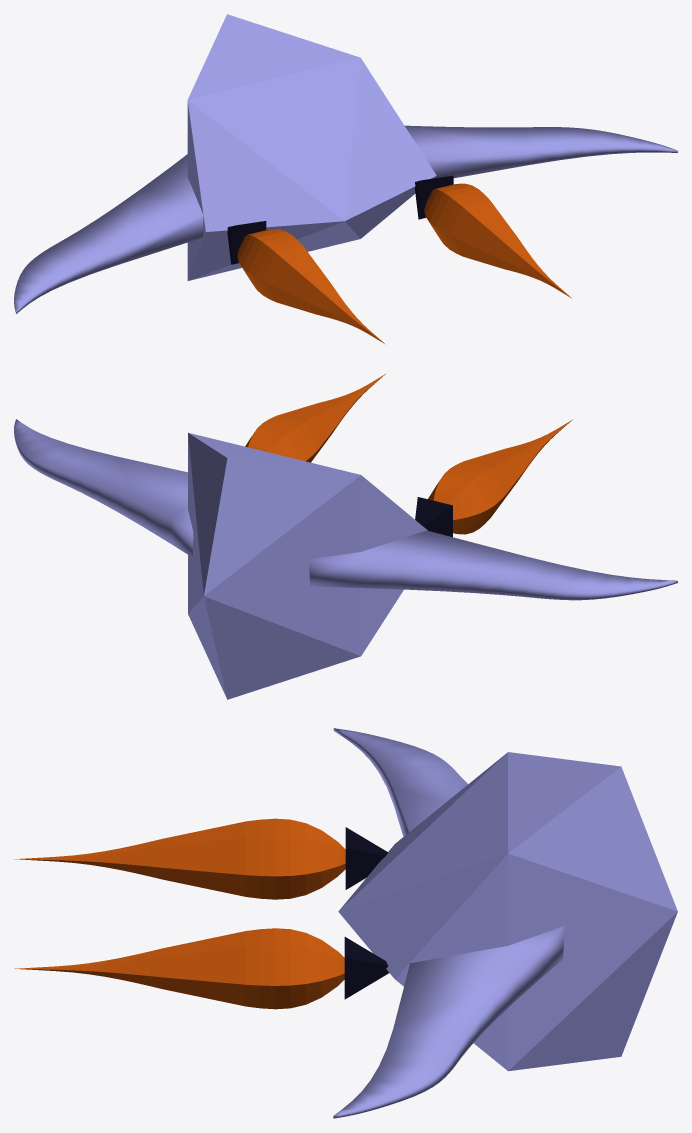
Rendered from spaceship_fire.obj.
3 renders of one model, top to bottom at view 1: azimuth 30°, elevation 25°; view 2: azimuth 150°, elevation 25°; view 3: azimuth 270°, elevation 25°, orthographic. The views are drawn at different scales.
Visible parts, largest first — view 1: head, wing1, wing2, fire1, fire2, engine1, engine2; view 2: head, wing1, wing2, fire1, fire2, engine1; view 3: head, wing2, fire1, fire2, wing1, engine2, engine1.
Part boxes in pixels (bbox=[...]): head: bbox=[187, 14, 436, 280]; wing1: bbox=[14, 154, 203, 313]; wing2: bbox=[405, 125, 677, 178]; fire1: bbox=[237, 229, 385, 344]; fire2: bbox=[424, 183, 571, 298]; engine1: bbox=[227, 221, 266, 264]; engine2: bbox=[414, 175, 453, 219]; head: bbox=[188, 432, 427, 699]; wing1: bbox=[309, 530, 677, 600]; wing2: bbox=[14, 419, 193, 557]; fire1: bbox=[428, 419, 572, 534]; fire2: bbox=[245, 374, 385, 462]; engine1: bbox=[415, 497, 452, 537]; head: bbox=[338, 752, 677, 1071]; wing2: bbox=[333, 926, 564, 1118]; fire1: bbox=[14, 818, 345, 899]; fire2: bbox=[15, 928, 344, 1009]; wing1: bbox=[333, 728, 467, 836]; engine2: bbox=[344, 937, 388, 999]; engine1: bbox=[345, 827, 388, 889].
Size of the model in its own units: 97.24 by 33.94 by 70.36.
